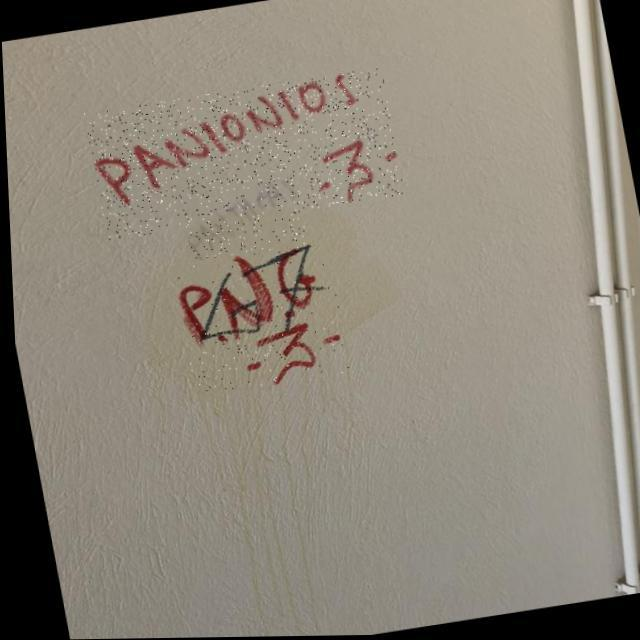-: (82, 68, 404, 242), (168, 240, 348, 396), (185, 243, 330, 345), (178, 178, 306, 264)
